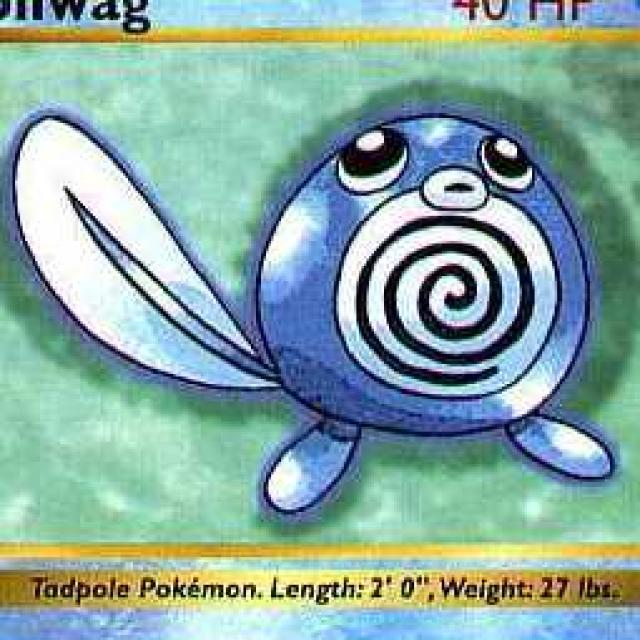Poliwag: (184, 110, 623, 504)
